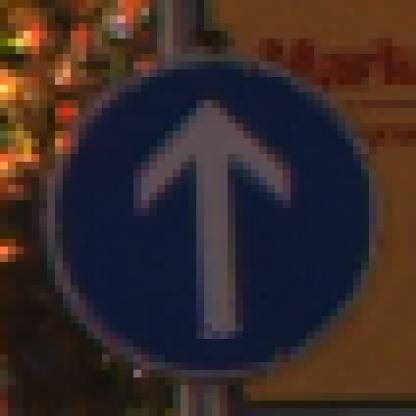AheadOnly: (40, 47, 378, 379)
